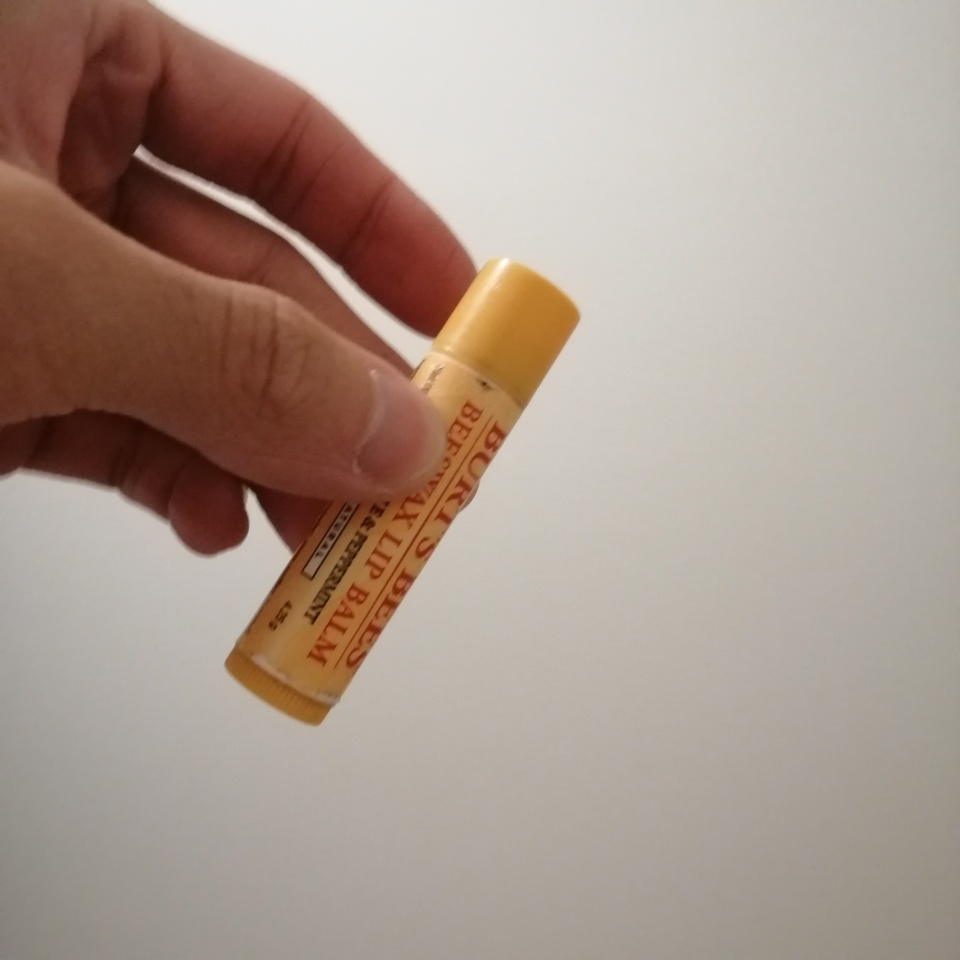chapstick: (225, 259, 580, 725)
